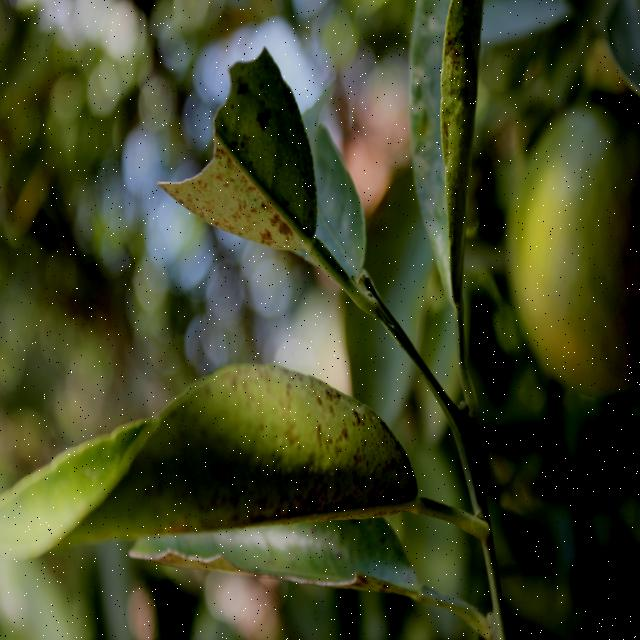melanose: (33, 361, 419, 554), (164, 45, 333, 271), (396, 0, 484, 298)
